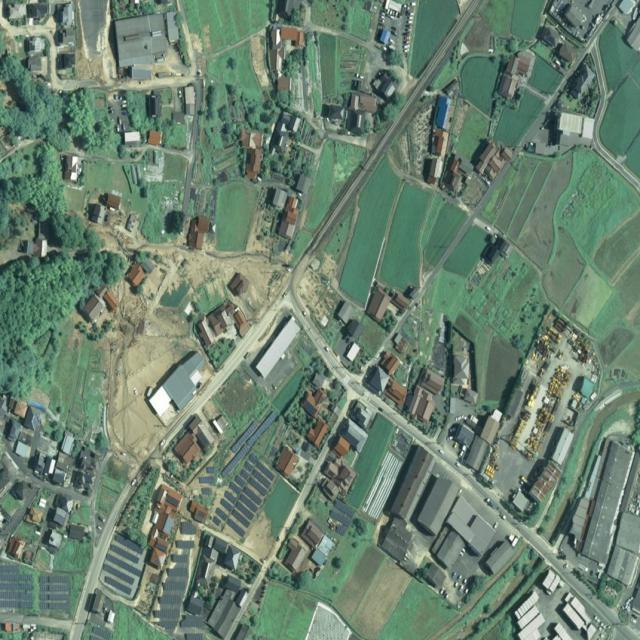landslide: (109, 335, 195, 461)
